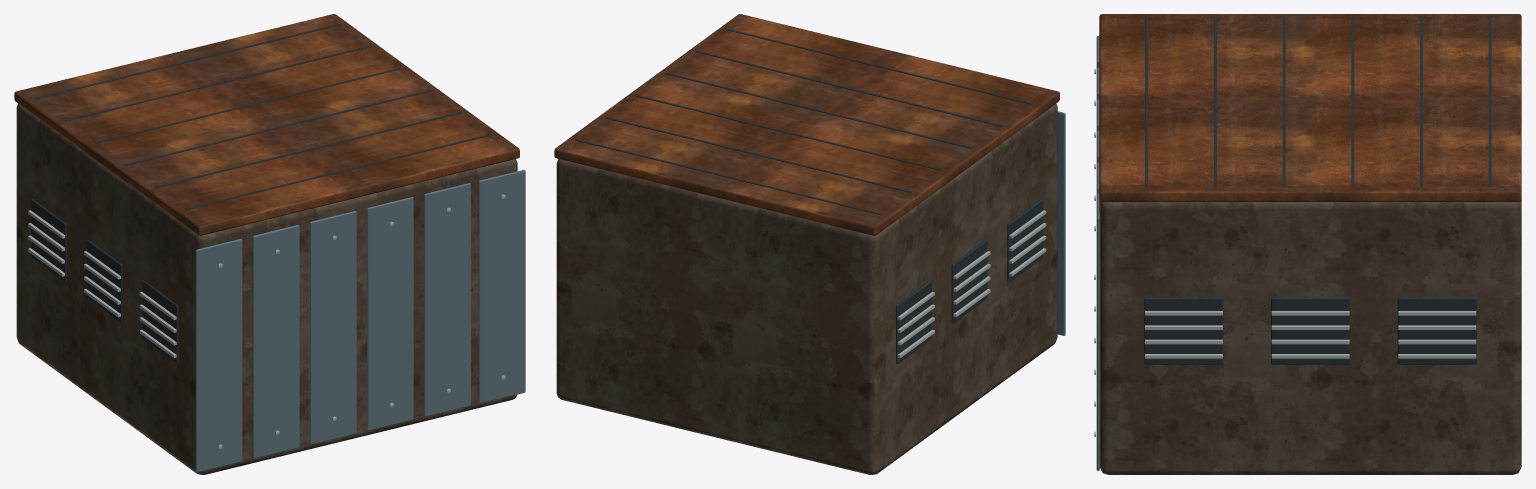
File: industrial-bunker.glb
3 renders of one model, left to right at view 1: azimuth 30°, elevation 25°; view 2: azimuth 150°, elevation 25°; view 3: azimuth 270°, elevation 25°, orthographic. The views are drawn at different scales.
Parts seen in each view (by area): view 1: industrial-bunker; view 2: industrial-bunker; view 3: industrial-bunker.
Boxes of the visible parts, left/top/right/bottom form: industrial-bunker: left=14, top=14, right=525, bottom=474; industrial-bunker: left=554, top=14, right=1065, bottom=474; industrial-bunker: left=1094, top=14, right=1521, bottom=474.
Size of the model in its own units: 4.13 by 3.01 by 4.05.
5 materials, 2 textured.
